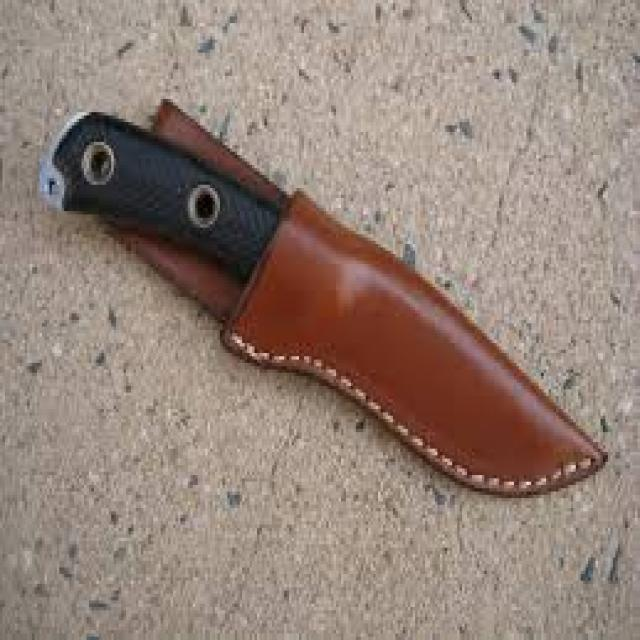knives: (37, 92, 613, 505)
